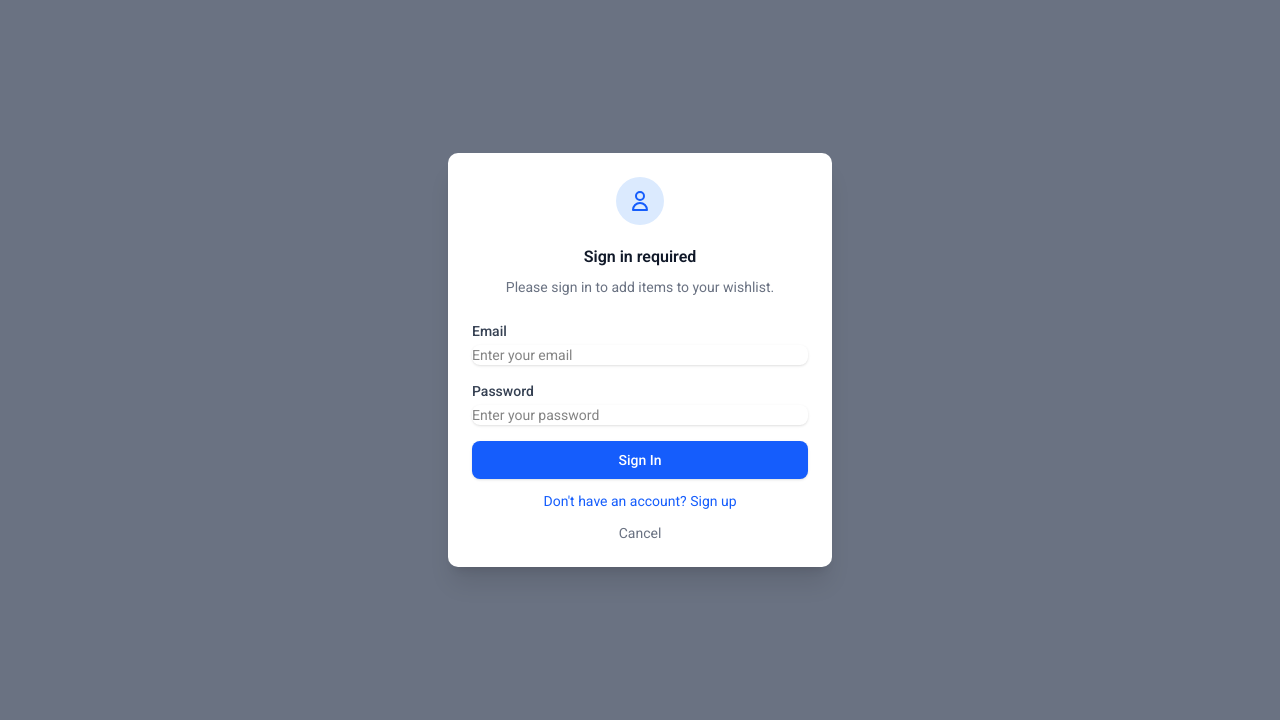
LoginModal › should switch to registration form
Click the button "Don't have an account? Sign up" at (640, 501), box [472,491,808,511]
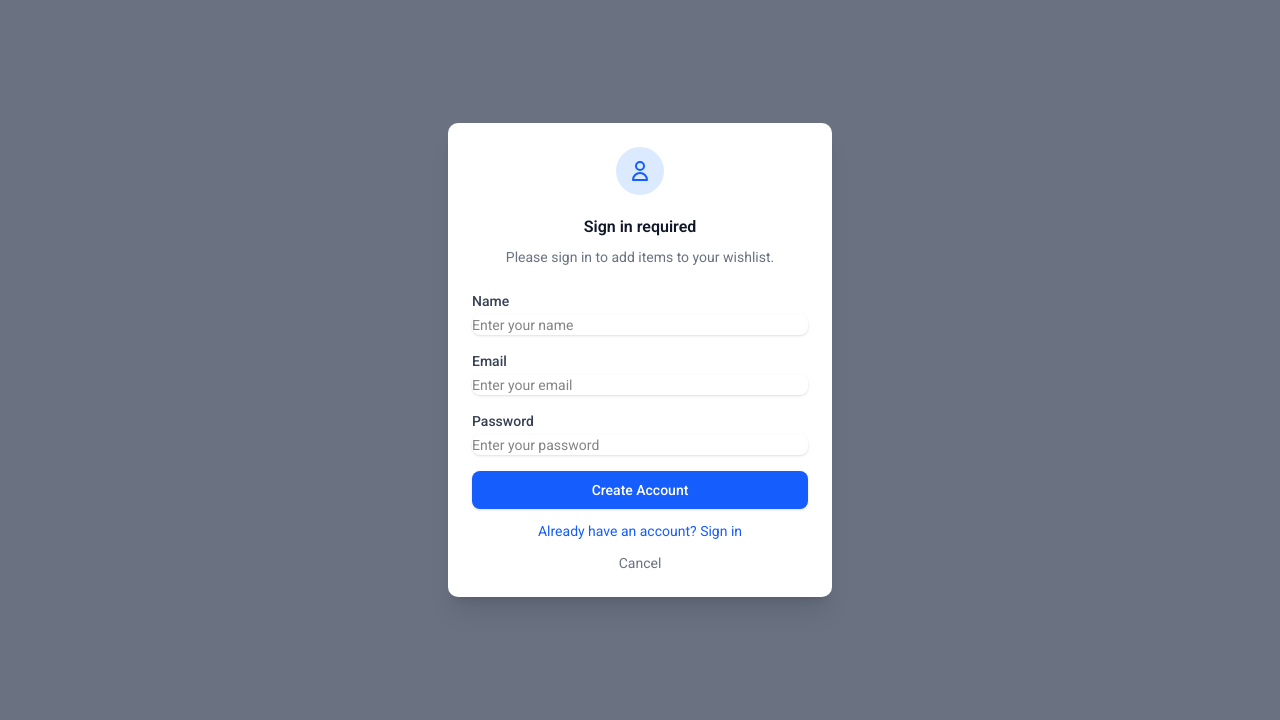
Expected: the field labelled "Email" is shown, [472,375,808,395]
Now the field labelled "Name" is shown, box [472,315,808,335]
Now the button "Create Account" is shown, box [472,471,808,509]
